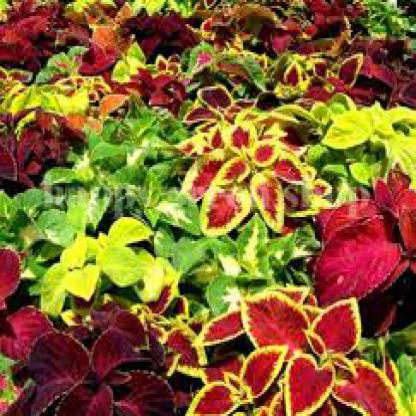Bunga Coleus: (13, 21, 398, 353)
